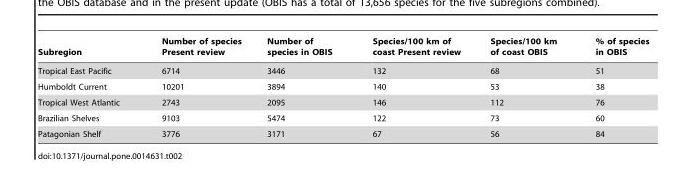table: (37, 36, 648, 138)
table column: (351, 36, 474, 138), (139, 36, 253, 138), (37, 36, 139, 138), (474, 36, 575, 138), (253, 36, 351, 138), (575, 36, 648, 138)
table column header: (37, 36, 648, 61)
table row: (37, 36, 648, 61), (37, 61, 648, 78), (37, 78, 648, 94), (37, 94, 648, 110), (37, 110, 648, 125), (37, 125, 648, 138)
